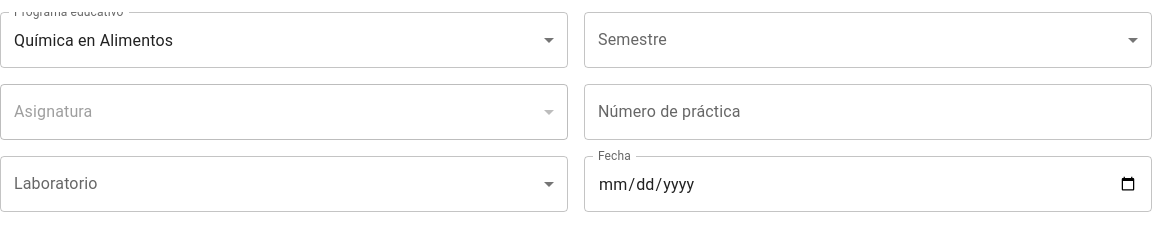
DatosPractica › el semestre nulo se ofrece como Optativa
Click the dropdown named "Semestre" next to "Semestre": (868, 40) [584,12,1152,68]
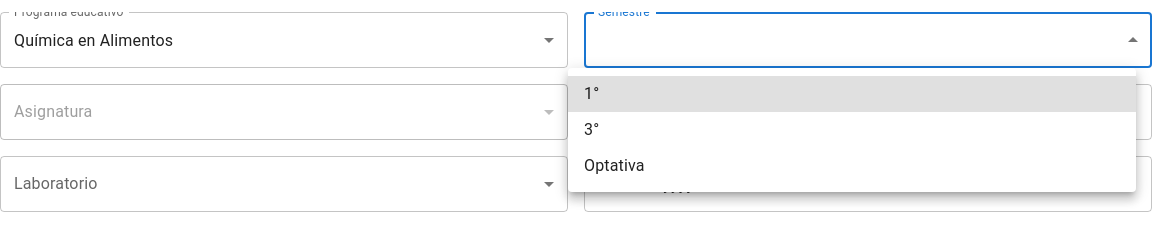
Now the option "Optativa" is shown, box [584,156,645,175]
